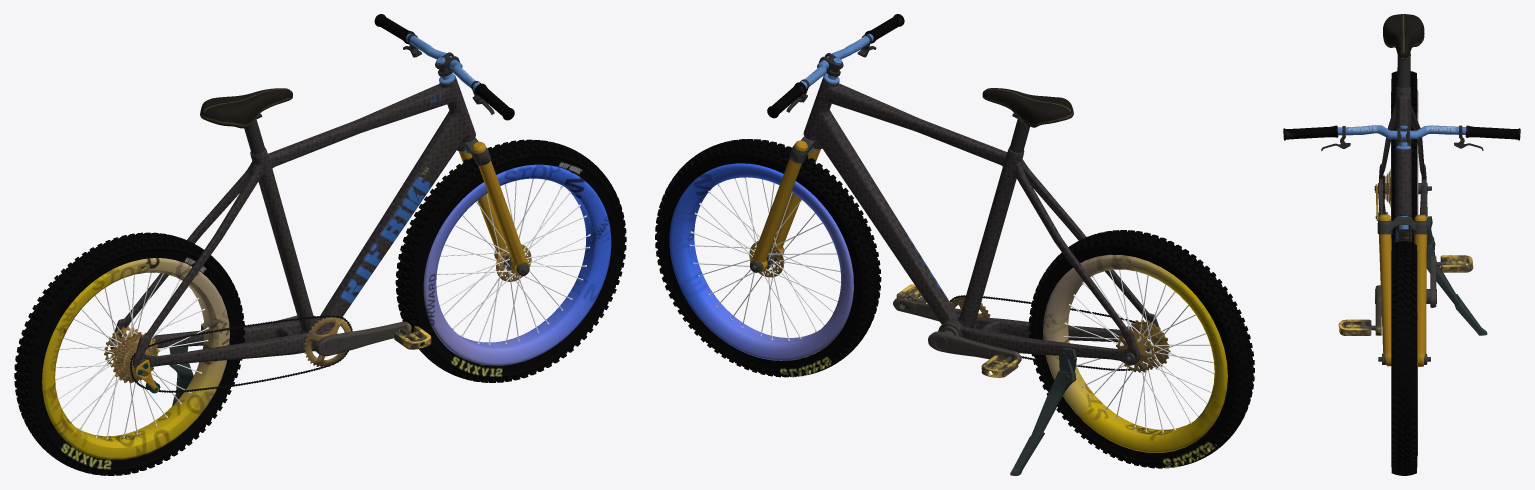
File: hero-bike.glb
3 renders of one model, left to right at view 1: azimuth 30°, elevation 25°; view 2: azimuth 150°, elevation 25°; view 3: azimuth 270°, elevation 25°, orthographic. The views are drawn at different scales.
Visible parts, largest first — view 1: finbike1:pCylinder58_finbike1:lambert13SG1_0, finbike1:tire3_finbike1:lambert15SG1_0, finbike1:pCube6_finbike1:lambert7SG1_0, finbike1:group8TIREtire1polySurface23_finbike1:initialShadin, finbike1:polySurface1_finbike1:lambert20SG1_0, finbike1:group21pCube17_finbike1:lambert24SG1_0, finbike1:group19_mirrored_z_3_finbike1:lambert23SG1_0, finbike1:duplicated_02group13_finbike1:lambert3SG1_0, finbike1:MASH2_ReproMesh_finbike1:lambert2SG1_0, finbike1:pCylinder54_finbike1:lambert31SG1_0, finbike1:_pSphere4_finbike1:lambert29SG1_0; view 2: finbike1:pCylinder58_finbike1:lambert13SG1_0, finbike1:pCube6_finbike1:lambert7SG1_0, finbike1:tire3_finbike1:lambert15SG1_0, finbike1:group8TIREtire1polySurface23_finbike1:initialShadin, finbike1:group19_mirrored_z_3_finbike1:lambert23SG1_0, finbike1:group21pCube17_finbike1:lambert24SG1_0, finbike1:polySurface1_finbike1:lambert20SG1_0, finbike1:duplicated_02group13_finbike1:lambert3SG1_0, finbike1:_pCube18group20_finbike1:lambert27SG1_0, finbike1:pCylinder54_finbike1:lambert31SG1_0, finbike1:_pSphere4_finbike1:lambert29SG1_0, finbike1:pCylinder101_finbike1:lambert11SG1_0; view 3: finbike1:pCylinder58_finbike1:lambert13SG1_0, finbike1:pCube6_finbike1:lambert7SG1_0, finbike1:group21pCube17_finbike1:lambert24SG1_0, finbike1:group19_mirrored_z_3_finbike1:lambert23SG1_0, finbike1:duplicated_02group13_finbike1:lambert3SG1_0, finbike1:pCylinder54_finbike1:lambert31SG1_0, finbike1:_pCube18group20_finbike1:lambert27SG1_0, finbike1:pCylinder101_finbike1:lambert11SG1_0, finbike1:_pSphere4_finbike1:lambert29SG1_0, finbike1:tire3_finbike1:lambert15SG1_0, finbike1:group25_duplicated_01_finbike1:lambert6SG1_0.
Part boxes in pixels (<box>): finbike1:pCylinder58_finbike1:lambert13SG1_0: <box>14,14,626,475</box>; finbike1:tire3_finbike1:lambert15SG1_0: <box>42,164,611,459</box>; finbike1:pCube6_finbike1:lambert7SG1_0: <box>110,76,475,371</box>; finbike1:group8TIREtire1polySurface23_finbike1:initialShadin: <box>55,178,590,439</box>; finbike1:polySurface1_finbike1:lambert20SG1_0: <box>104,244,531,382</box>; finbike1:group21pCube17_finbike1:lambert24SG1_0: <box>135,141,528,391</box>; finbike1:group19_mirrored_z_3_finbike1:lambert23SG1_0: <box>201,315,431,356</box>; finbike1:duplicated_02group13_finbike1:lambert3SG1_0: <box>200,88,292,128</box>; finbike1:MASH2_ReproMesh_finbike1:lambert2SG1_0: <box>130,315,352,392</box>; finbike1:pCylinder54_finbike1:lambert31SG1_0: <box>383,17,479,153</box>; finbike1:_pSphere4_finbike1:lambert29SG1_0: <box>403,34,494,114</box>; finbike1:pCylinder58_finbike1:lambert13SG1_0: <box>655,14,1254,468</box>; finbike1:pCube6_finbike1:lambert7SG1_0: <box>803,76,1160,365</box>; finbike1:tire3_finbike1:lambert15SG1_0: <box>669,163,1227,452</box>; finbike1:group8TIREtire1polySurface23_finbike1:initialShadin: <box>689,177,1214,432</box>; finbike1:group19_mirrored_z_3_finbike1:lambert23SG1_0: <box>893,284,1021,377</box>; finbike1:group21pCube17_finbike1:lambert24SG1_0: <box>750,140,820,272</box>; finbike1:polySurface1_finbike1:lambert20SG1_0: <box>749,241,1170,372</box>; finbike1:duplicated_02group13_finbike1:lambert3SG1_0: <box>982,88,1073,127</box>; finbike1:_pCube18group20_finbike1:lambert27SG1_0: <box>1010,348,1076,475</box>; finbike1:pCylinder54_finbike1:lambert31SG1_0: <box>776,33,873,152</box>; finbike1:_pSphere4_finbike1:lambert29SG1_0: <box>786,34,1071,380</box>; finbike1:pCylinder101_finbike1:lambert11SG1_0: <box>750,136,1150,364</box>; finbike1:pCylinder58_finbike1:lambert13SG1_0: <box>1283,71,1520,475</box>; finbike1:pCube6_finbike1:lambert7SG1_0: <box>1378,87,1427,262</box>; finbike1:group21pCube17_finbike1:lambert24SG1_0: <box>1375,184,1426,366</box>; finbike1:group19_mirrored_z_3_finbike1:lambert23SG1_0: <box>1338,255,1473,335</box>; finbike1:duplicated_02group13_finbike1:lambert3SG1_0: <box>1383,14,1424,60</box>; finbike1:pCylinder54_finbike1:lambert31SG1_0: <box>1337,125,1512,229</box>; finbike1:_pCube18group20_finbike1:lambert27SG1_0: <box>1426,216,1487,335</box>; finbike1:pCylinder101_finbike1:lambert11SG1_0: <box>1377,183,1431,364</box>; finbike1:_pSphere4_finbike1:lambert29SG1_0: <box>1321,125,1483,246</box>; finbike1:tire3_finbike1:lambert15SG1_0: <box>1391,90,1418,455</box>; finbike1:group25_duplicated_01_finbike1:lambert6SG1_0: <box>1397,53,1410,87</box>.
Size of the model in its own units: 13.9 by 7.66 by 5.16.
17 materials, 7 textured.
